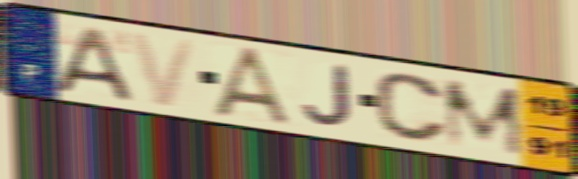A: (209, 45, 300, 130), (50, 24, 136, 104)
C: (371, 70, 452, 145)
J: (300, 62, 356, 130)
M: (439, 78, 530, 159)
V: (126, 29, 200, 110)
